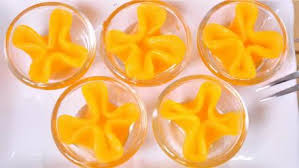tongyip: (58, 85, 144, 167), (161, 82, 243, 165), (207, 2, 285, 76), (111, 6, 188, 79), (14, 12, 87, 81)
